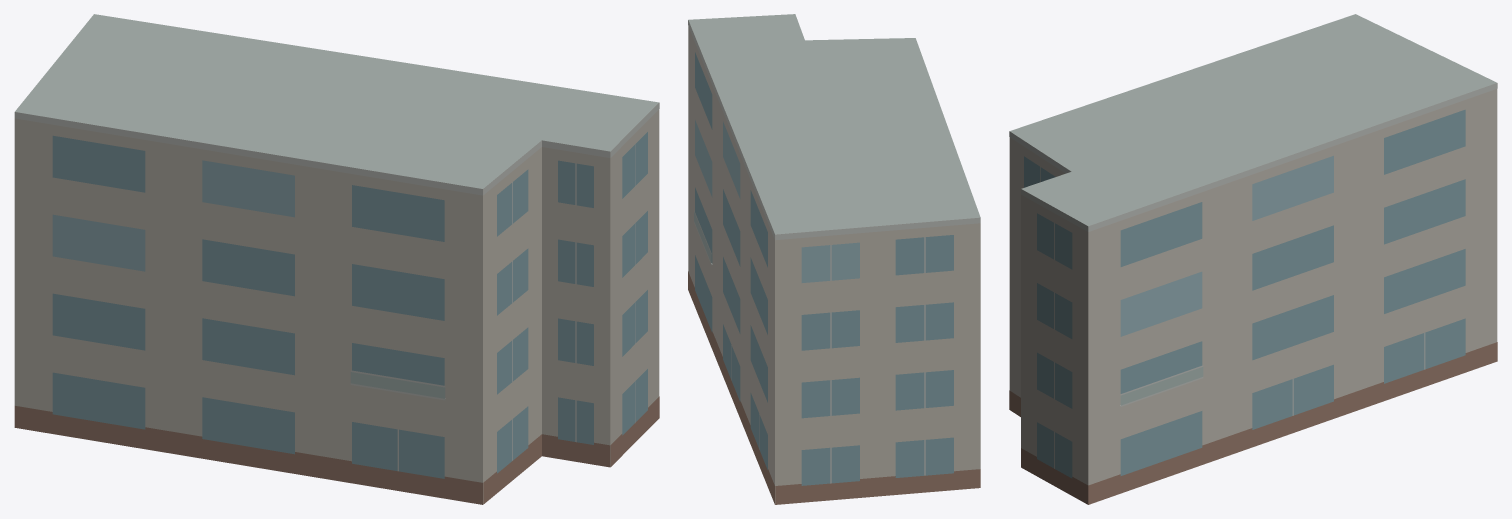
The model's file is survey-upis-32535135.glb.
3 views of the same model, side by side, from view 1: azimuth 30°, elevation 25°; view 2: azimuth 150°, elevation 25°; view 3: azimuth 270°, elevation 25° (orthographic). The views are drawn at different scales.
Parts seen in each view (by area): view 1: survey-upis-32535135.tmp; view 2: survey-upis-32535135.tmp; view 3: survey-upis-32535135.tmp.
Boxes of the visible parts, left/top/right/bottom form: survey-upis-32535135.tmp: left=14, top=14, right=659, bottom=504; survey-upis-32535135.tmp: left=688, top=14, right=980, bottom=504; survey-upis-32535135.tmp: left=1009, top=14, right=1497, bottom=504.
Size of the model in its own units: 19.13 by 11.7 by 18.58.
